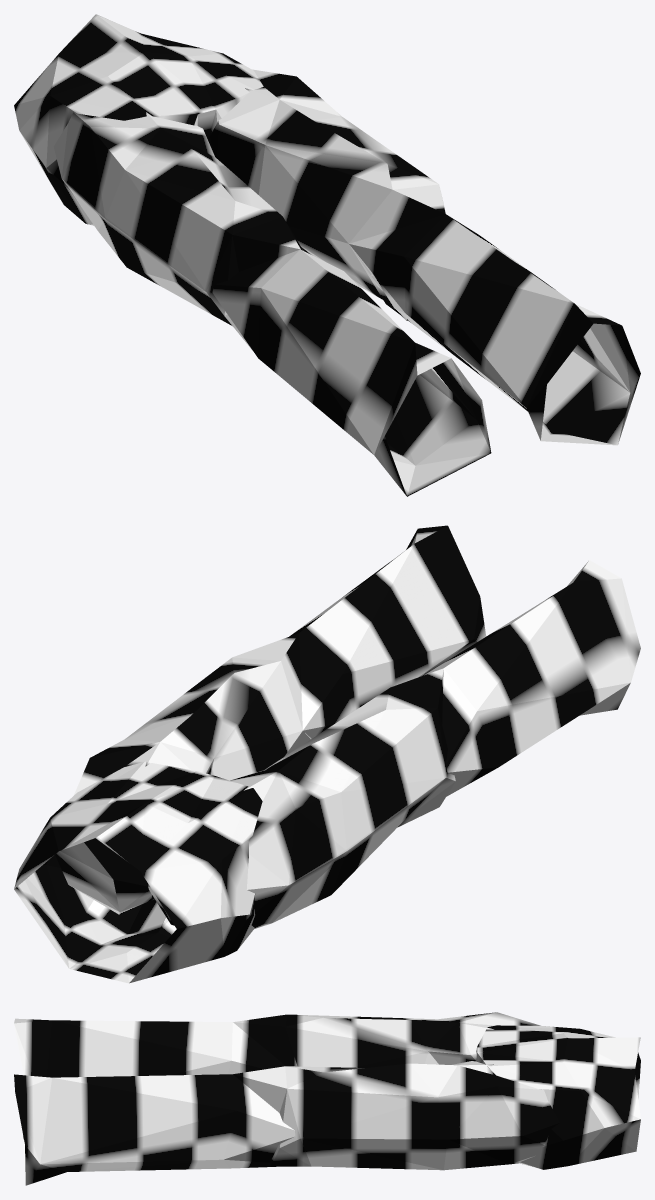
Rendered from initarpt9.dae.
3 views of the same model, one above another, from view 1: azimuth 30°, elevation 25°; view 2: azimuth 150°, elevation 25°; view 3: azimuth 270°, elevation 25° (orthographic). The views are drawn at different scales.
Parts seen in each view (by area): view 1: armor; view 2: armor; view 3: armor.
Part boxes in pixels (bbox=[...]): armor: bbox=[14, 14, 640, 496]; armor: bbox=[14, 525, 640, 983]; armor: bbox=[14, 1012, 640, 1185].
Size of the model in its own units: 0.6143 by 1.77 by 0.3617.
Materials: 1 (1 with a texture image).
